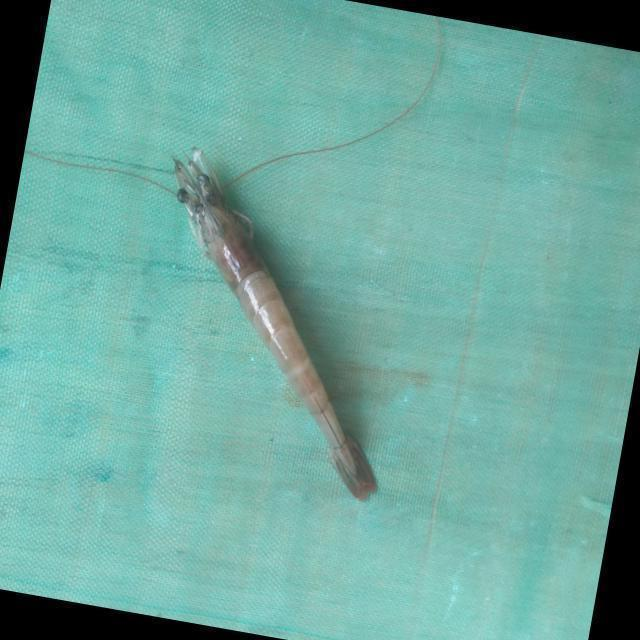shrimp: (174, 146, 377, 500)
